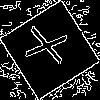X: (25, 25, 77, 68)
